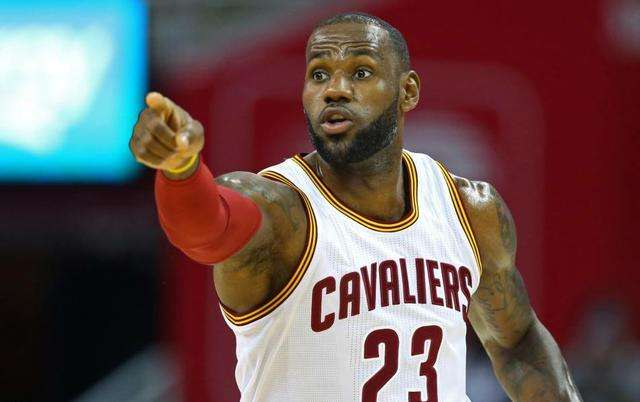no-phone: (124, 89, 205, 173)
